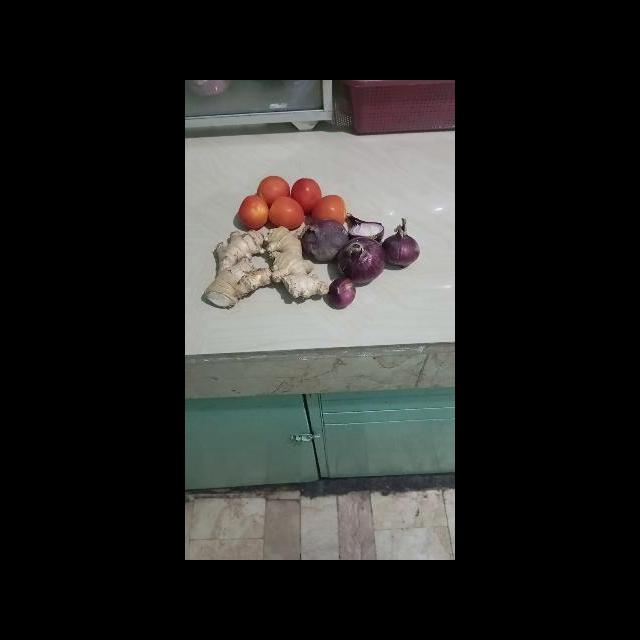ginger: (203, 228, 274, 309), (262, 224, 328, 301)
onion: (332, 236, 386, 283), (374, 213, 420, 267), (298, 220, 349, 263), (342, 212, 391, 244), (325, 276, 359, 309)
